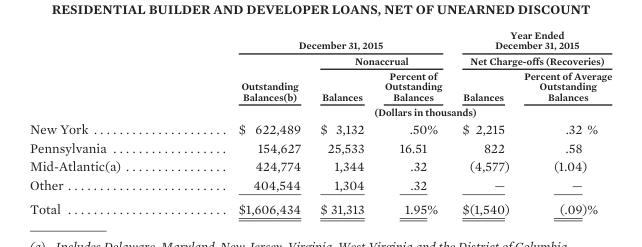table: (28, 28, 611, 216)
table column: (28, 28, 178, 216), (178, 28, 309, 216), (515, 28, 611, 216), (373, 28, 451, 216), (309, 28, 373, 216), (451, 28, 515, 216)
table column header: (28, 28, 611, 119)
table row: (28, 68, 611, 103), (28, 28, 611, 52), (28, 175, 611, 196), (28, 196, 611, 216), (28, 119, 611, 138), (28, 156, 611, 175), (28, 138, 611, 156), (28, 52, 611, 68), (28, 103, 611, 119)
table spanning cell: (178, 103, 611, 119), (178, 52, 309, 103), (178, 28, 451, 52), (451, 28, 611, 68), (309, 52, 451, 68)
